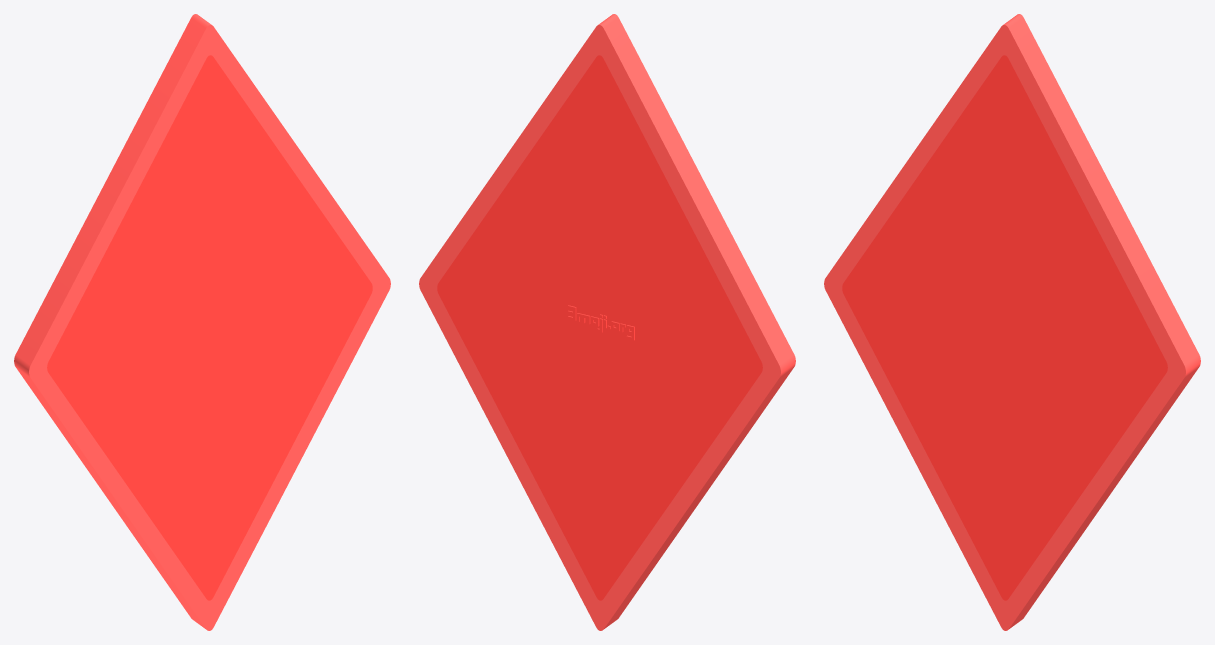
The model's file is diamond_suit.glb.
The picture shows the model from 3 angles, left to right: view 1: azimuth 30°, elevation 25°; view 2: azimuth 150°, elevation 25°; view 3: azimuth 330°, elevation 25°; orthographic projection.
Parts seen in each view (by area): view 1: Plane.314; view 2: Plane.314; view 3: Plane.314.
Boxes of the visible parts, x1,y1,x2,y2 form: Plane.314: (14, 14, 390, 630); Plane.314: (419, 14, 795, 630); Plane.314: (824, 14, 1200, 630).
Size of the model in its own units: 1.44 by 2.3 by 0.1082.
1 material, 1 textured.
